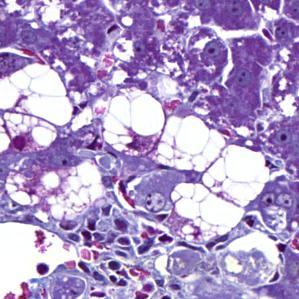ballooning: (154, 111, 273, 246), (4, 60, 76, 156), (103, 88, 167, 158)
